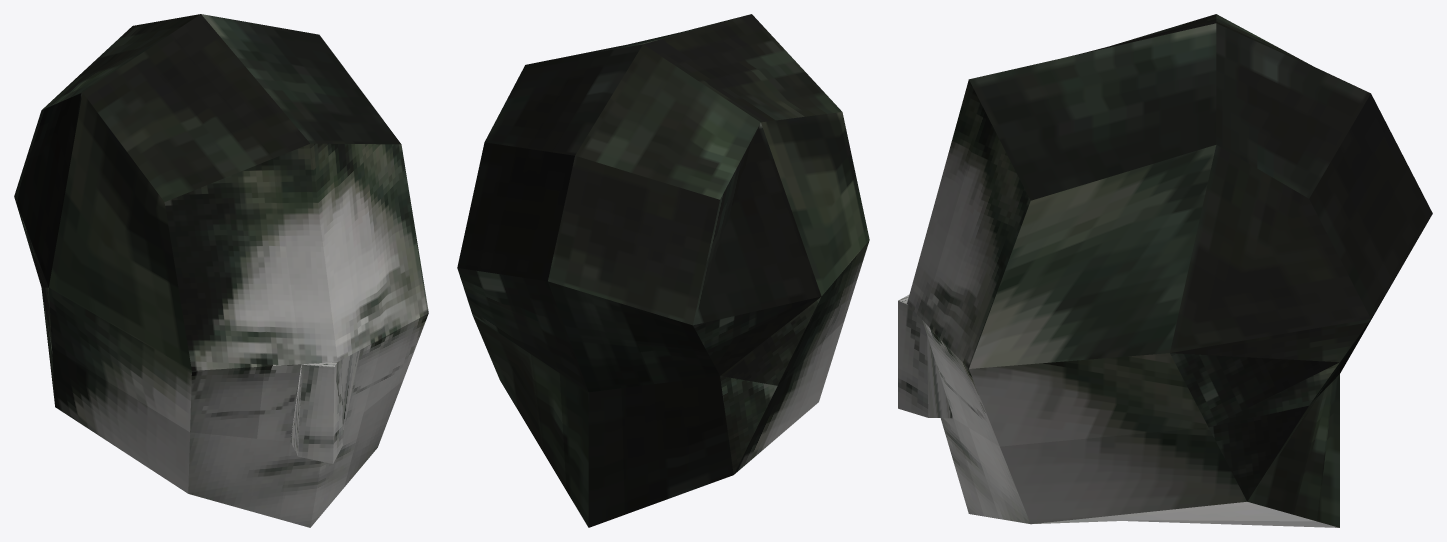
The model's file is vlad.obj.
3 renders of one model, left to right at view 1: azimuth 30°, elevation 25°; view 2: azimuth 150°, elevation 25°; view 3: azimuth 270°, elevation 25°, orthographic. The views are drawn at different scales.
Visible parts, largest first — view 1: cube; view 2: cube; view 3: cube.
Part boxes in pixels (x1,y1,x2,y2): cube: (14,14,428,527); cube: (457,14,869,527); cube: (898,14,1432,527).
Bounding box in the file's own units: 0.4375 × 0.5625 × 0.5402.
Materials: 1 (1 with a texture image).
